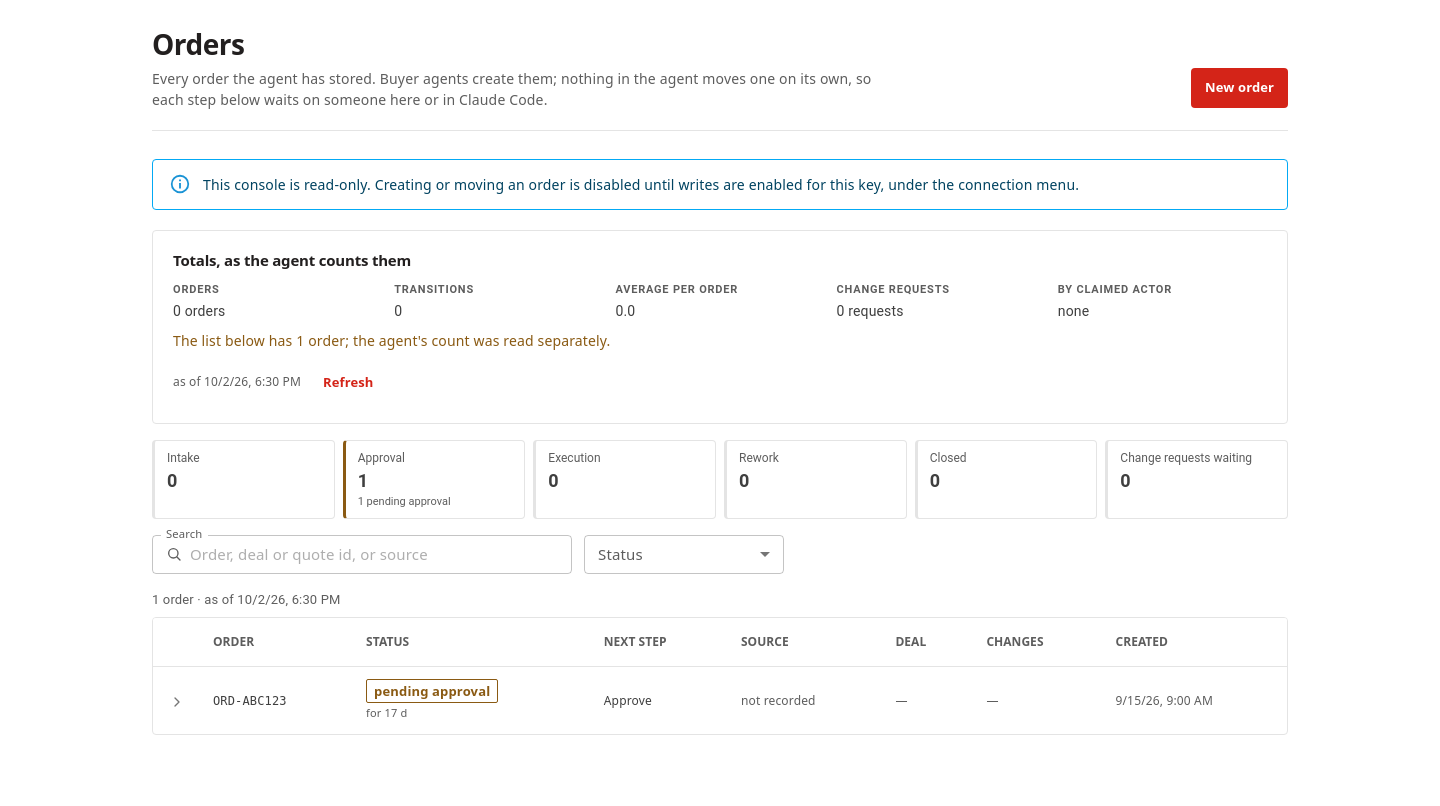
Test: the orders screen › price and terms › has no card for an order with neither
Click the button named "Show ORD-ABC123" at point(177, 702), box [169,694,185,710]
(page scrolled)
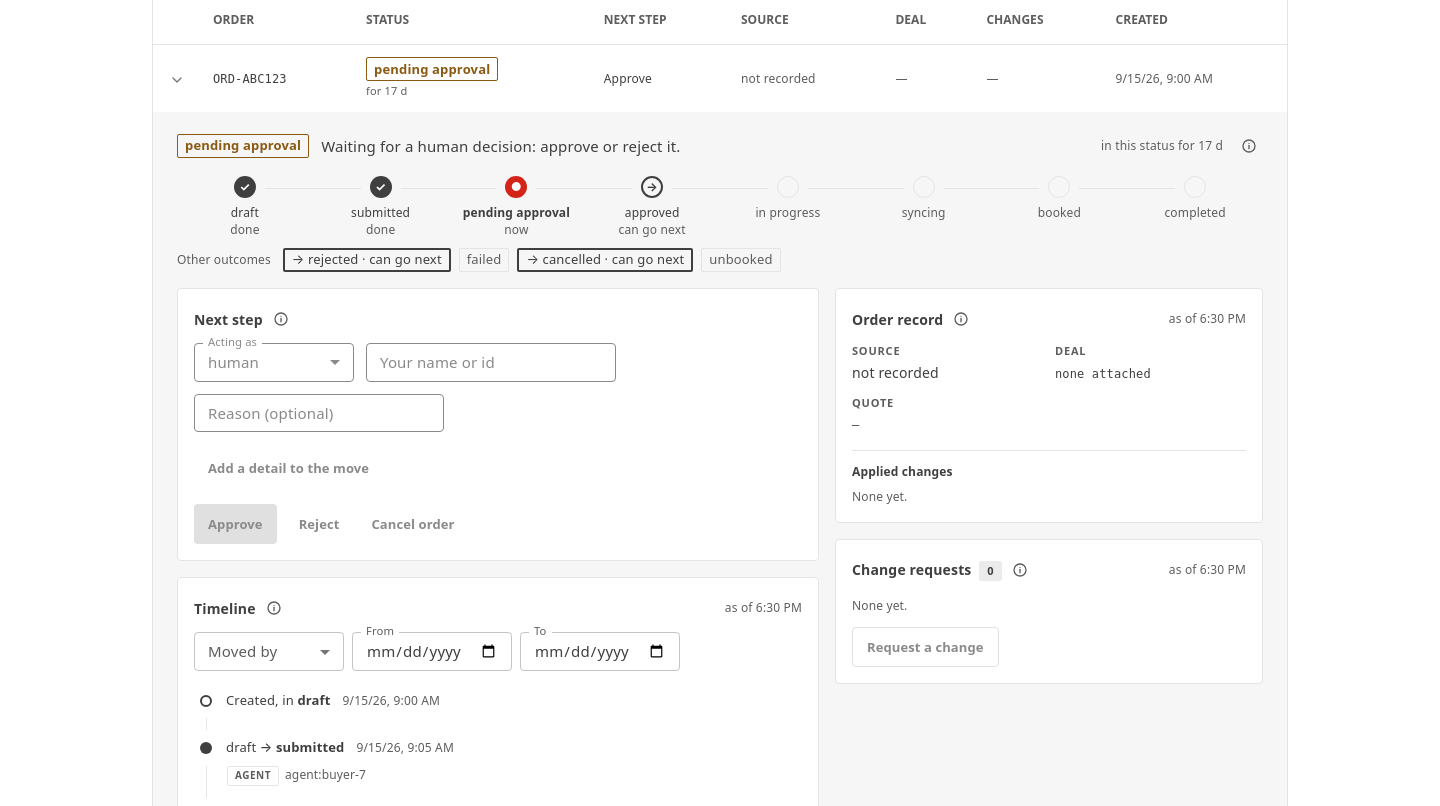
Check: the element that starts with "Order record" is shown, box [835,288,1263,523]
